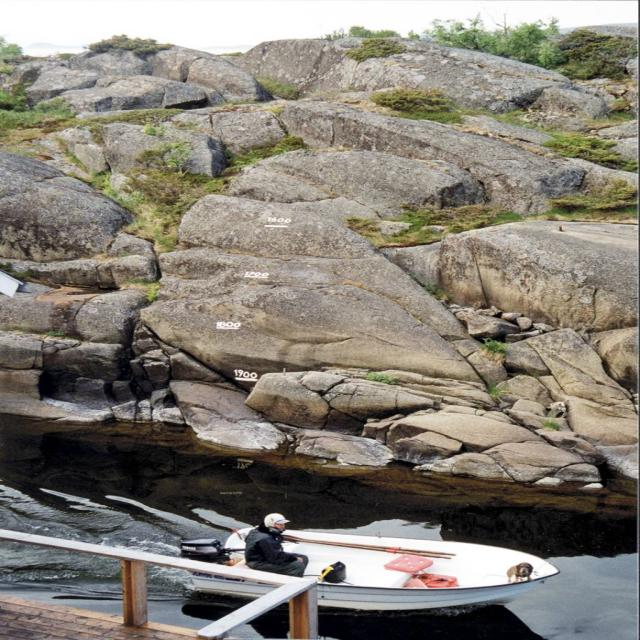Boat: (137, 511, 565, 620)
